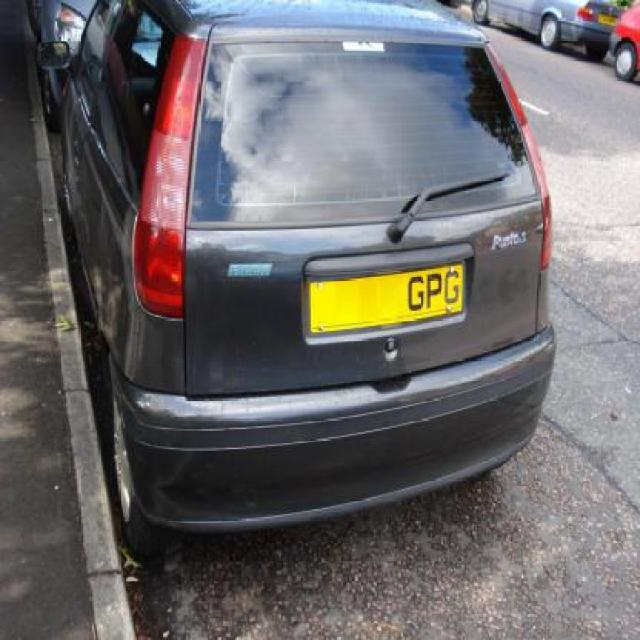License-Plates: (306, 264, 468, 328)
